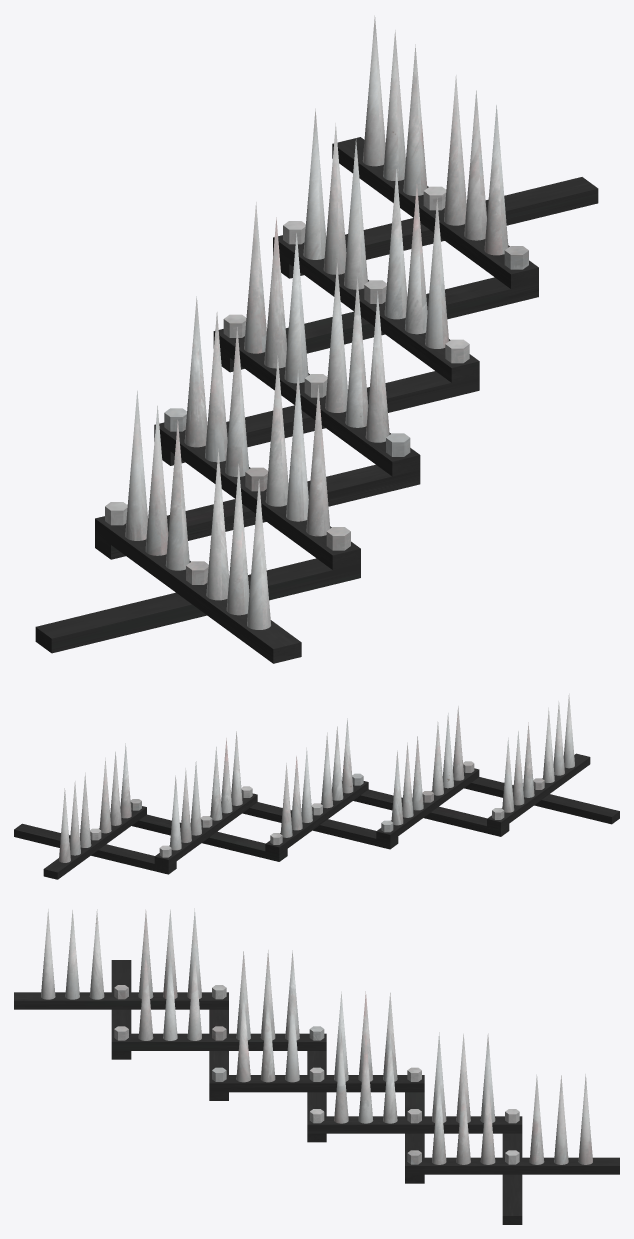
File: Espinho.fbx
The picture shows the model from 3 angles, top to bottom: view 1: azimuth 30°, elevation 25°; view 2: azimuth 150°, elevation 25°; view 3: azimuth 270°, elevation 25°; orthographic projection. The views are drawn at different scales.
Visible parts, largest first — view 1: Cube; view 2: Cube; view 3: Cube.
Part boxes in pixels (box(x1,y1,x2,y2)): Cube: box(35, 15, 598, 663); Cube: box(14, 693, 619, 879); Cube: box(14, 908, 619, 1224).
Size of the model in its own units: 620 by 120 by 620.
2 materials, 2 textured.
